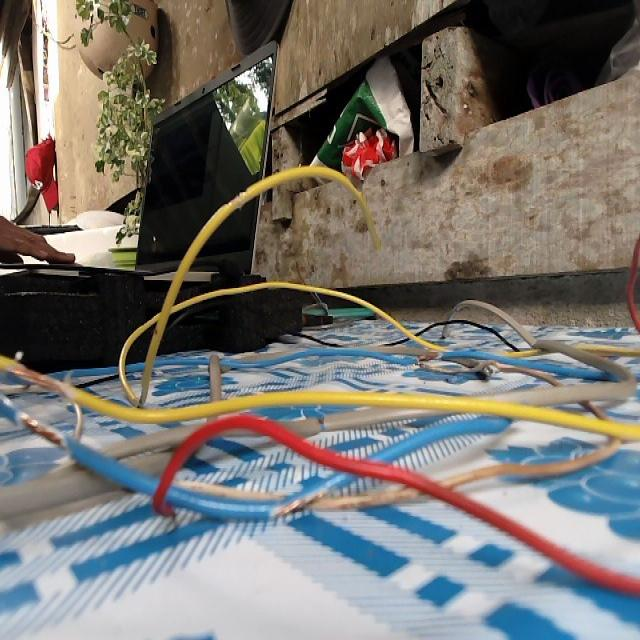-: (12, 403, 71, 465), (6, 354, 75, 398), (271, 488, 326, 525), (411, 345, 447, 367), (129, 392, 152, 417), (479, 358, 498, 382), (312, 411, 329, 436)
